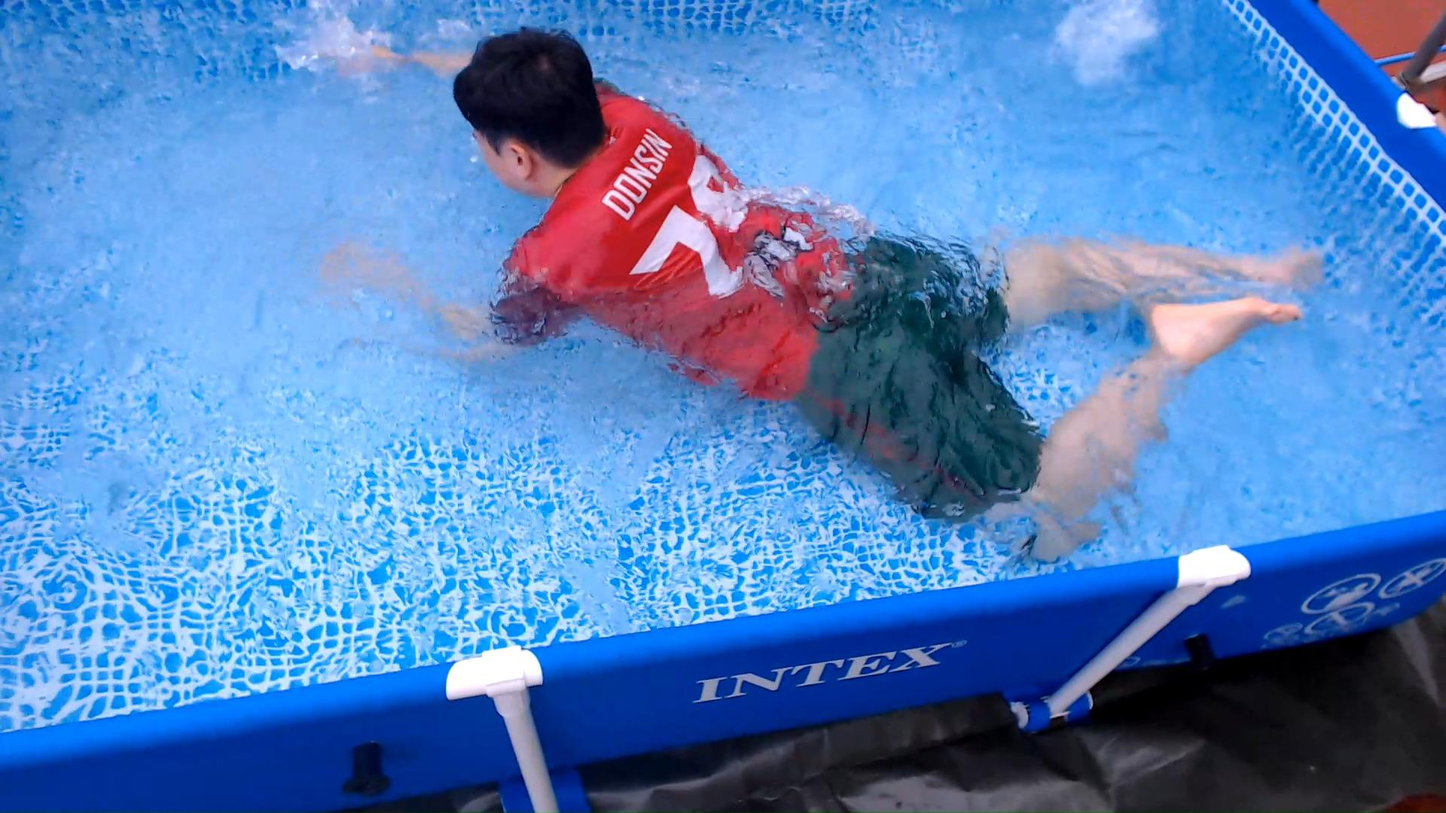Drowning: (268, 3, 1319, 537)
